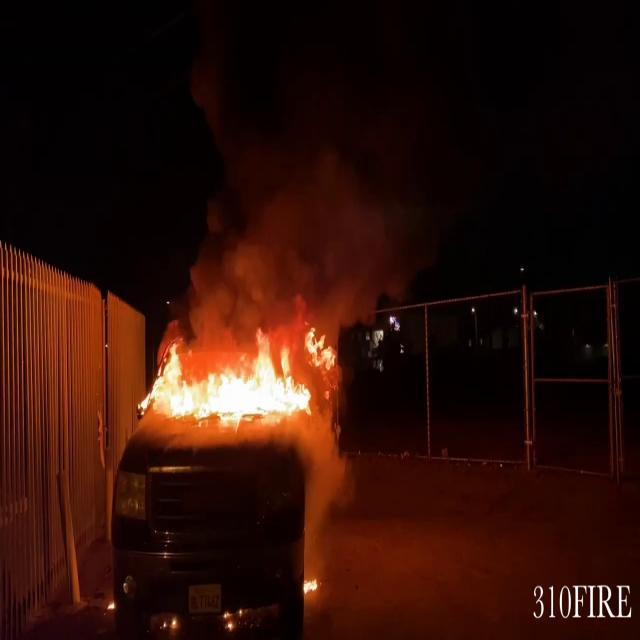Fire: (136, 328, 332, 436)
Smoke: (183, 131, 433, 331)
